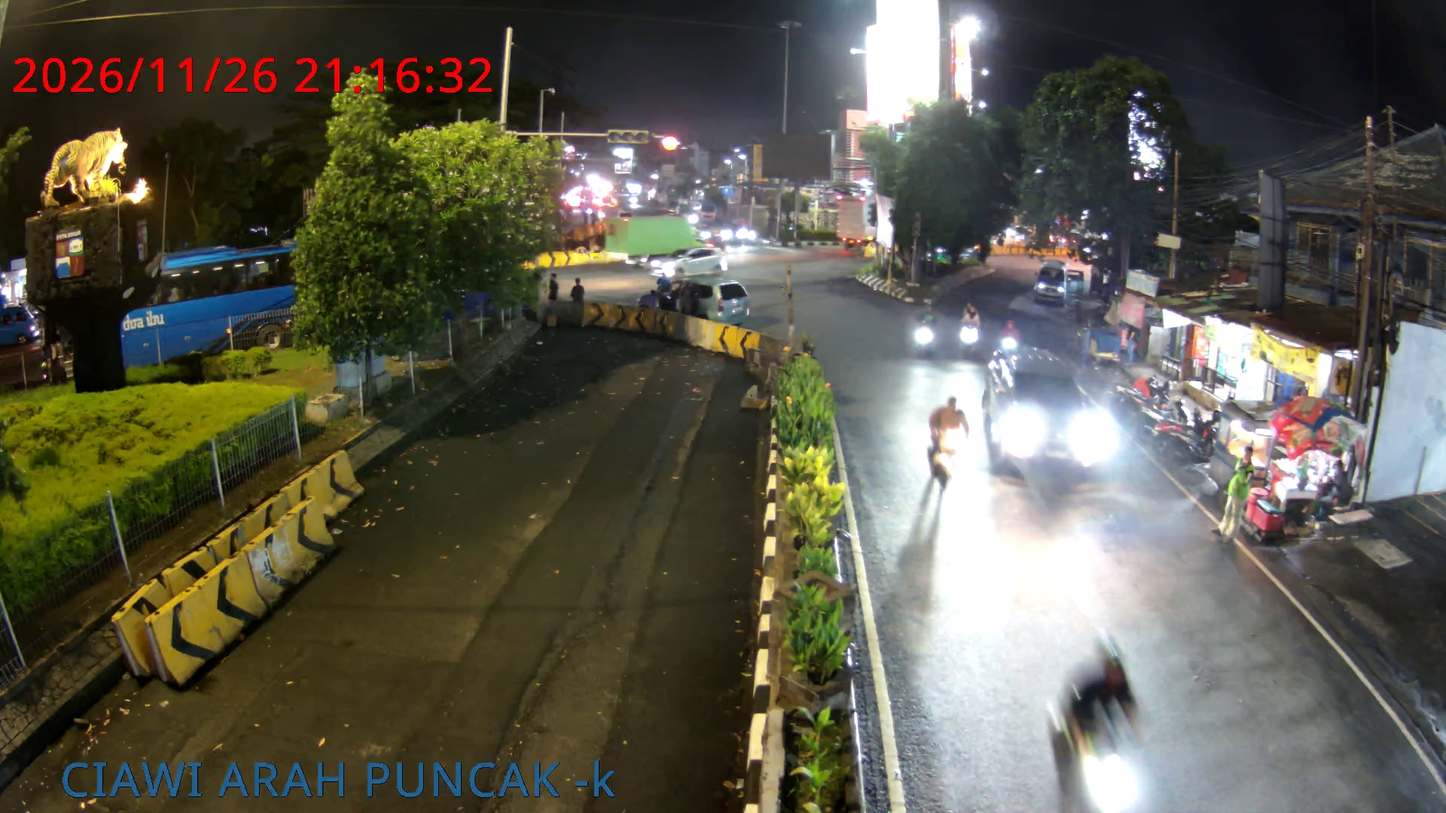Gerobak: (1239, 443, 1323, 541)
